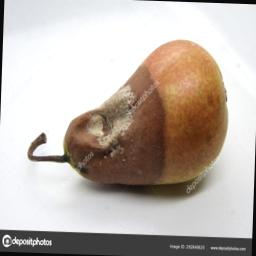Pear Rotten: (17, 34, 234, 193)
